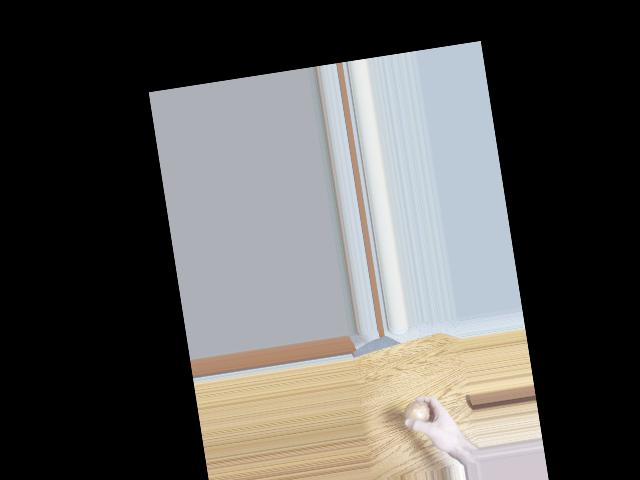onion: (403, 398, 431, 428)
